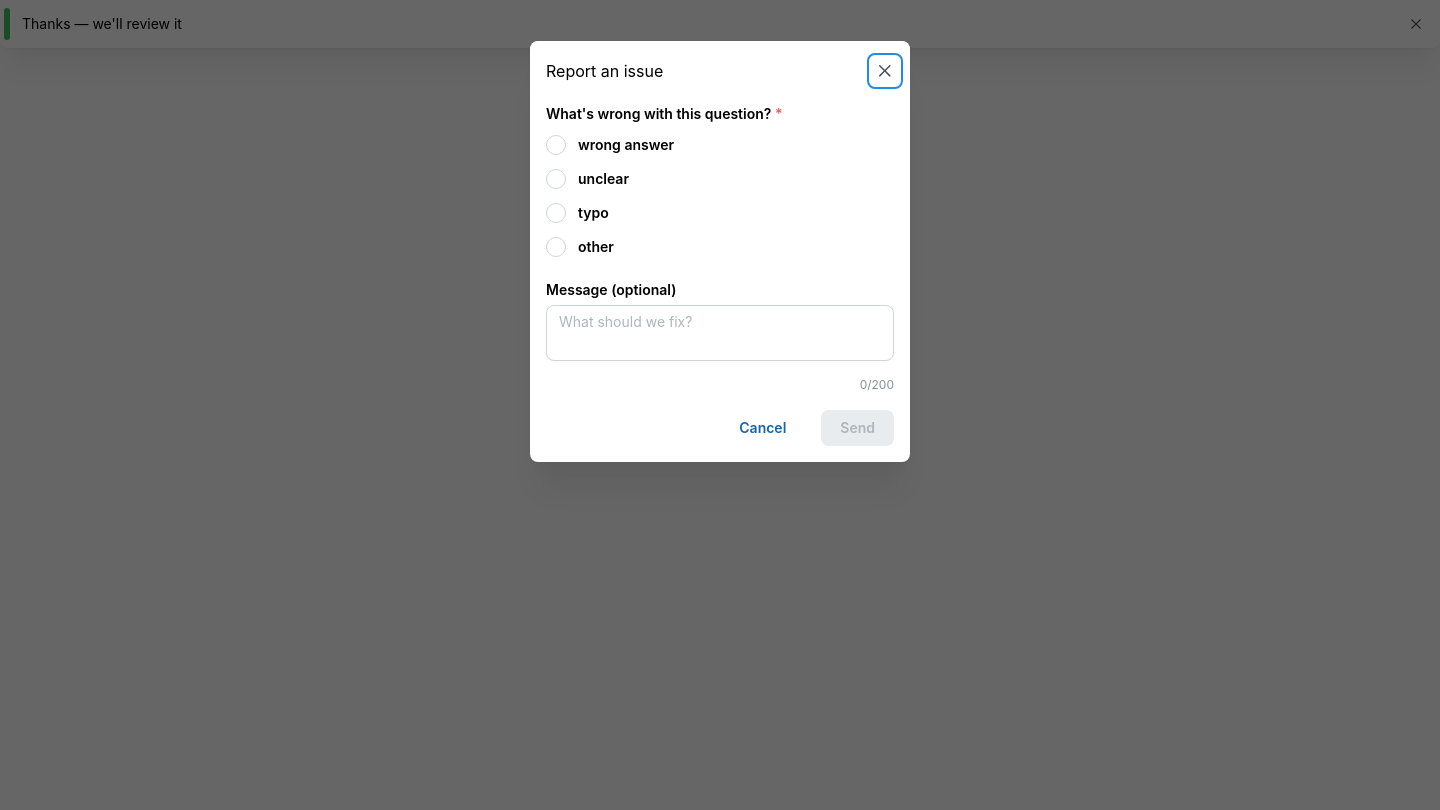
Test: FeedbackModal › shows a failure toast when the API rejects
Click the radio button labelled "unclear" at x=556, y=179, box [546,169,566,189]
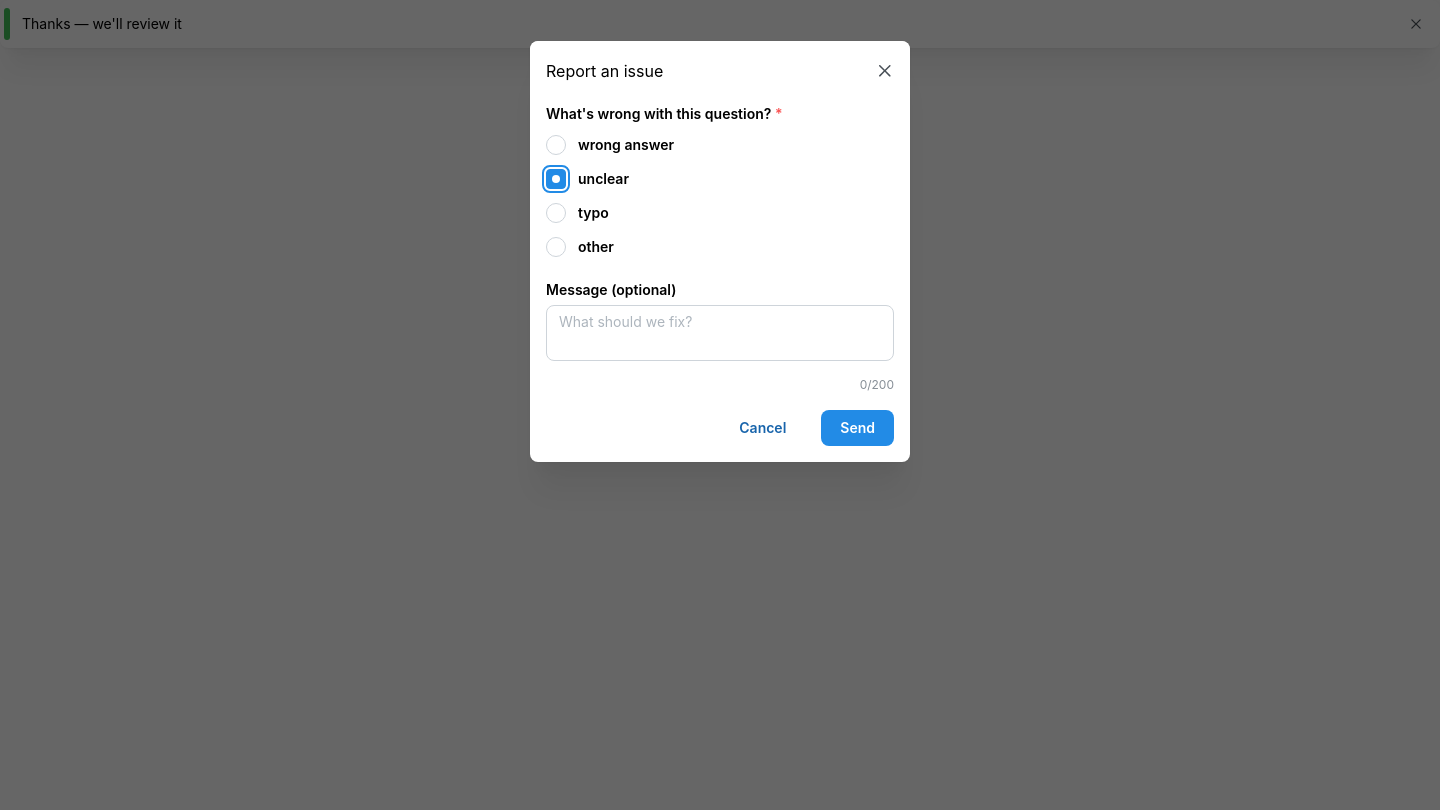
Click the button with test id "feedback-submit" at x=858, y=428, box [821,410,894,446]
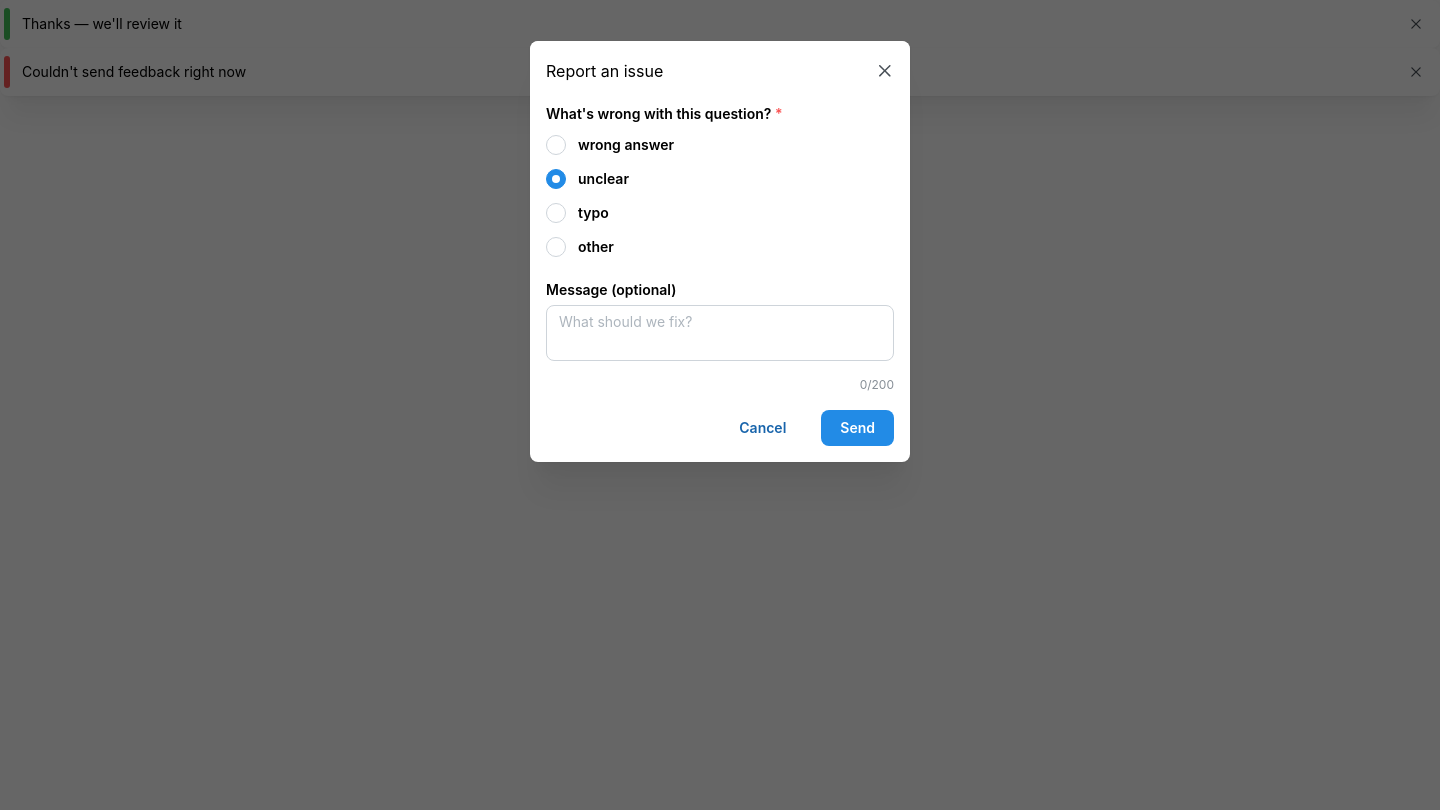
Expected: the text "Couldn't send feedback right now" is shown, [22,63,246,80]
